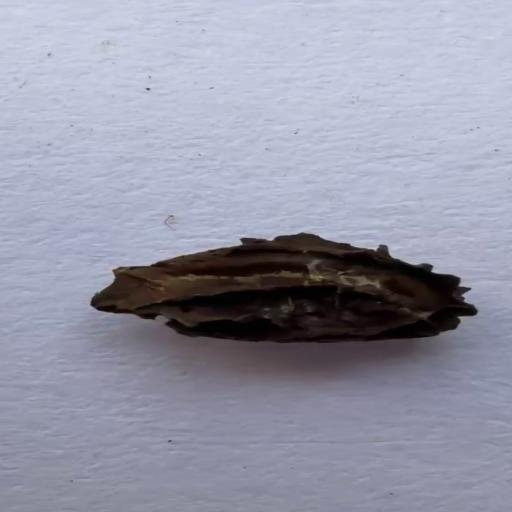papaya_seed: (88, 219, 481, 352)
